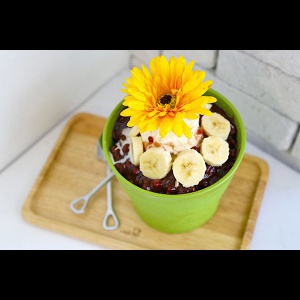flowerpot: (103, 73, 248, 237)
